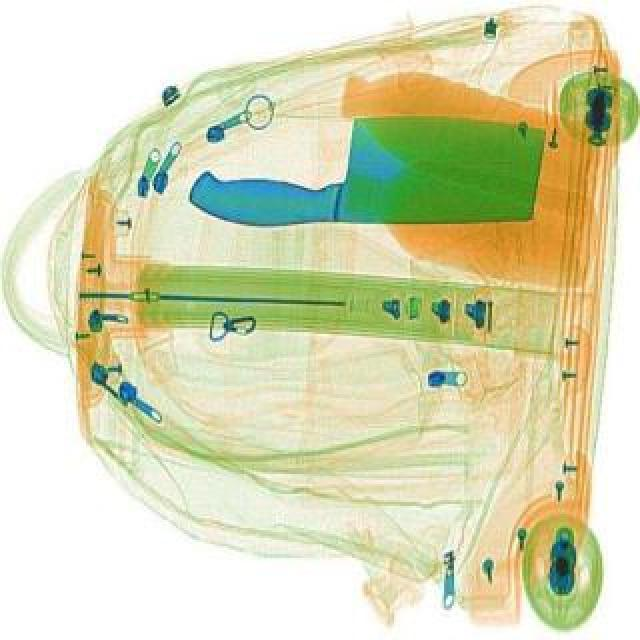knife: (186, 110, 558, 242)
